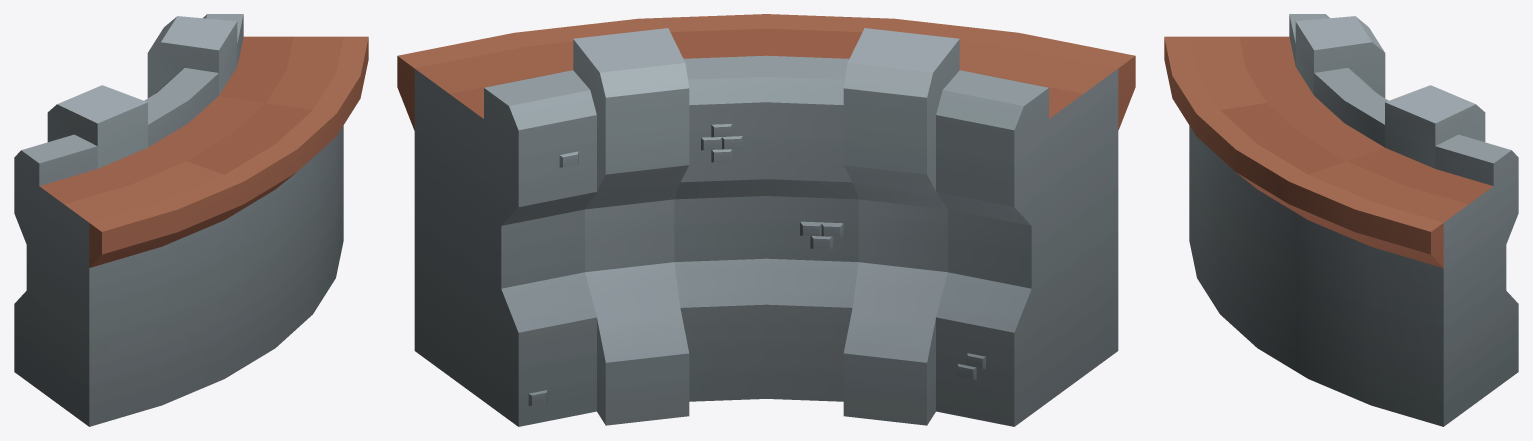
Rendered from wall_corner_a_inside.glb.
3 views of the same model, side by side, from view 1: azimuth 30°, elevation 25°; view 2: azimuth 150°, elevation 25°; view 3: azimuth 270°, elevation 25° (orthographic). The views are drawn at different scales.
Visible parts, largest first — view 1: wall_corner_A_inside; view 2: wall_corner_A_inside; view 3: wall_corner_A_inside.
Boxes of the visible parts, x1,y1,x2,y2 form: wall_corner_A_inside: (14, 14, 368, 426); wall_corner_A_inside: (397, 14, 1135, 426); wall_corner_A_inside: (1164, 14, 1518, 426).
Size of the model in its own units: 1.85 by 1.1 by 1.42.
1 material, 1 textured.
